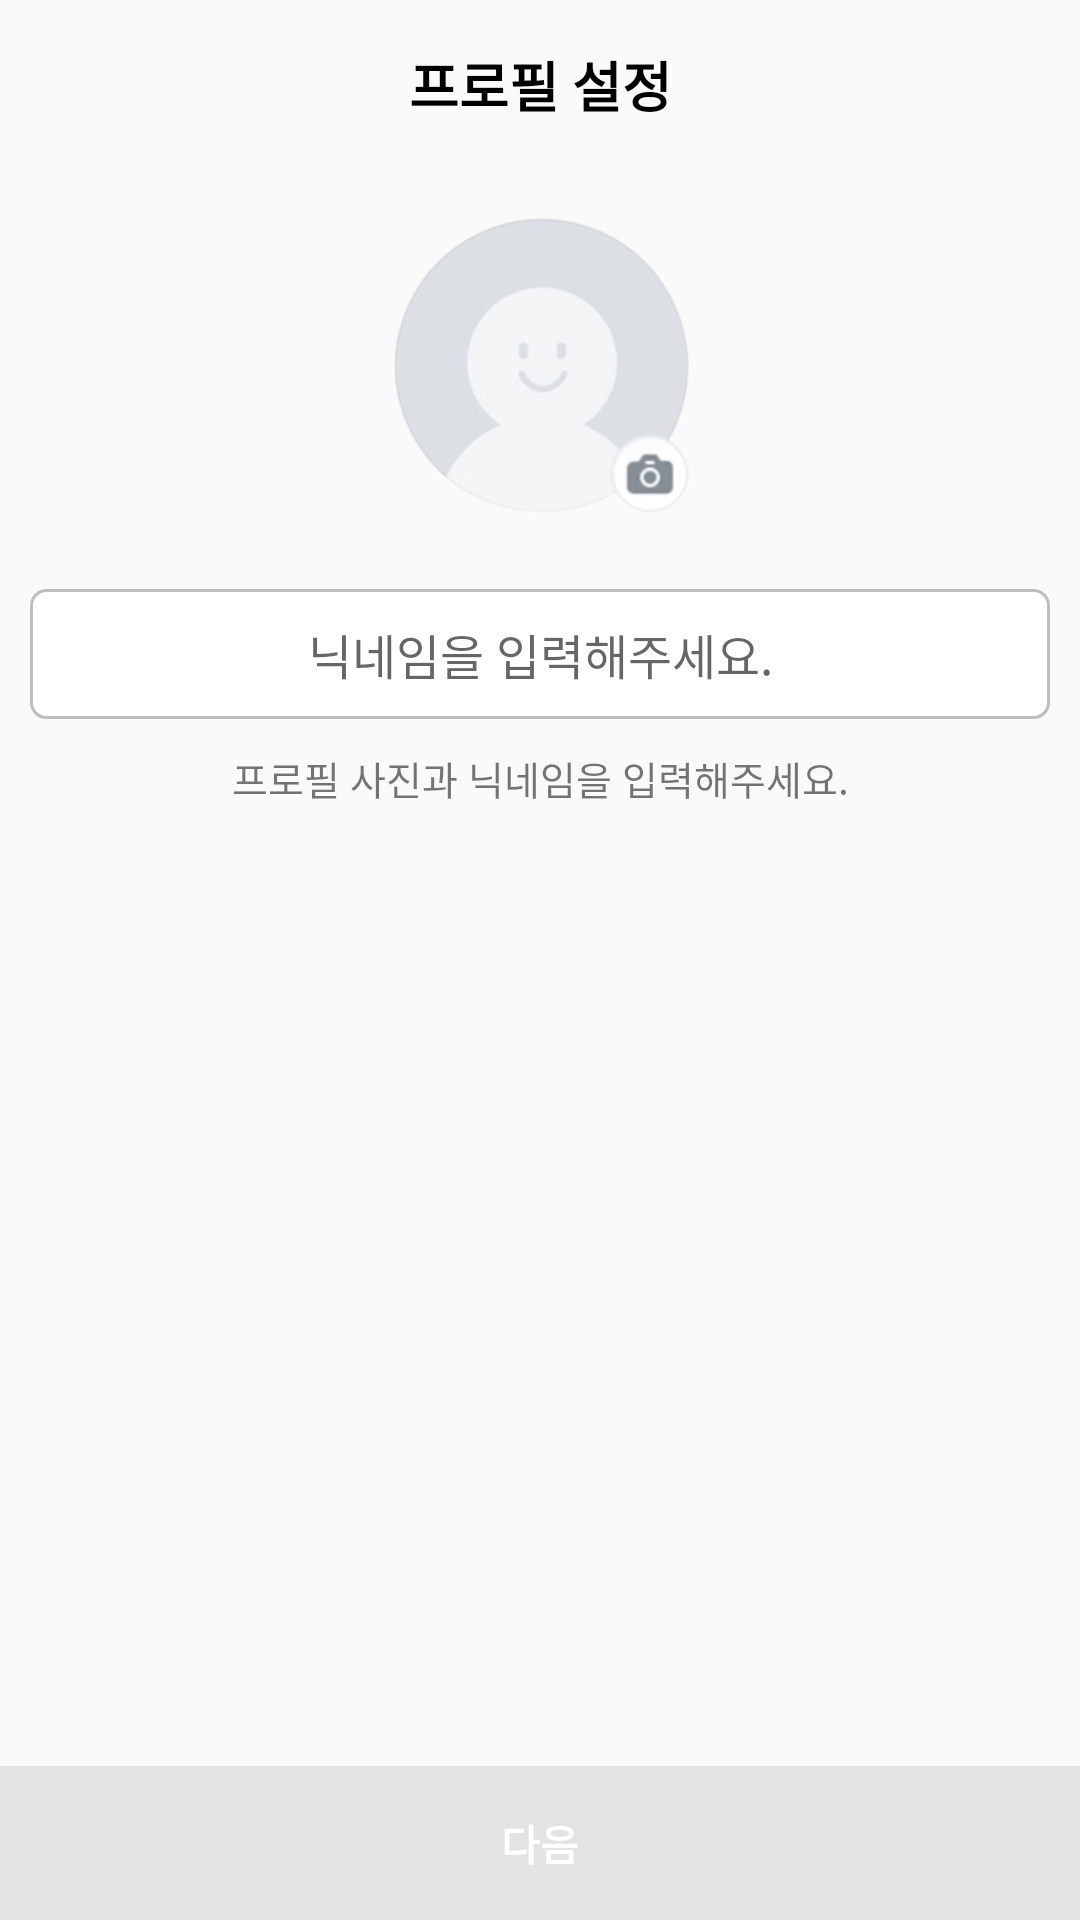

Point at icon controls on the screen. Image size 1080w x 1920h, points as point (x, y).
base profile: point (541, 357)
